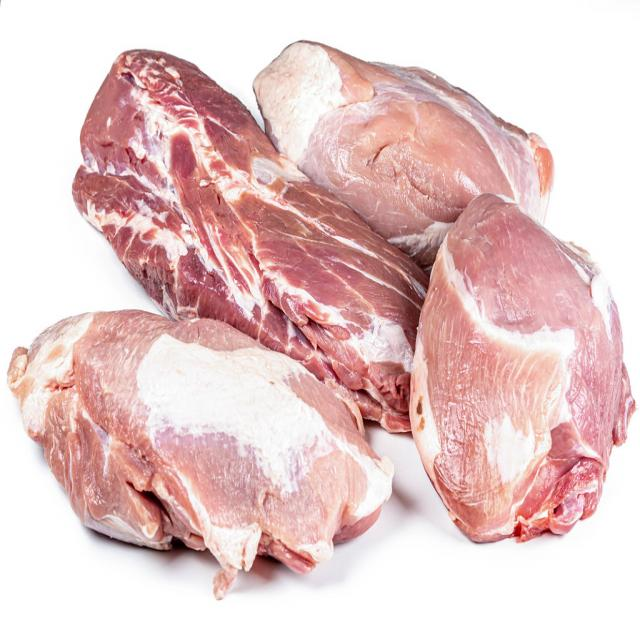pork: (72, 49, 429, 431), (7, 310, 394, 599), (411, 193, 636, 542), (254, 40, 555, 268)
